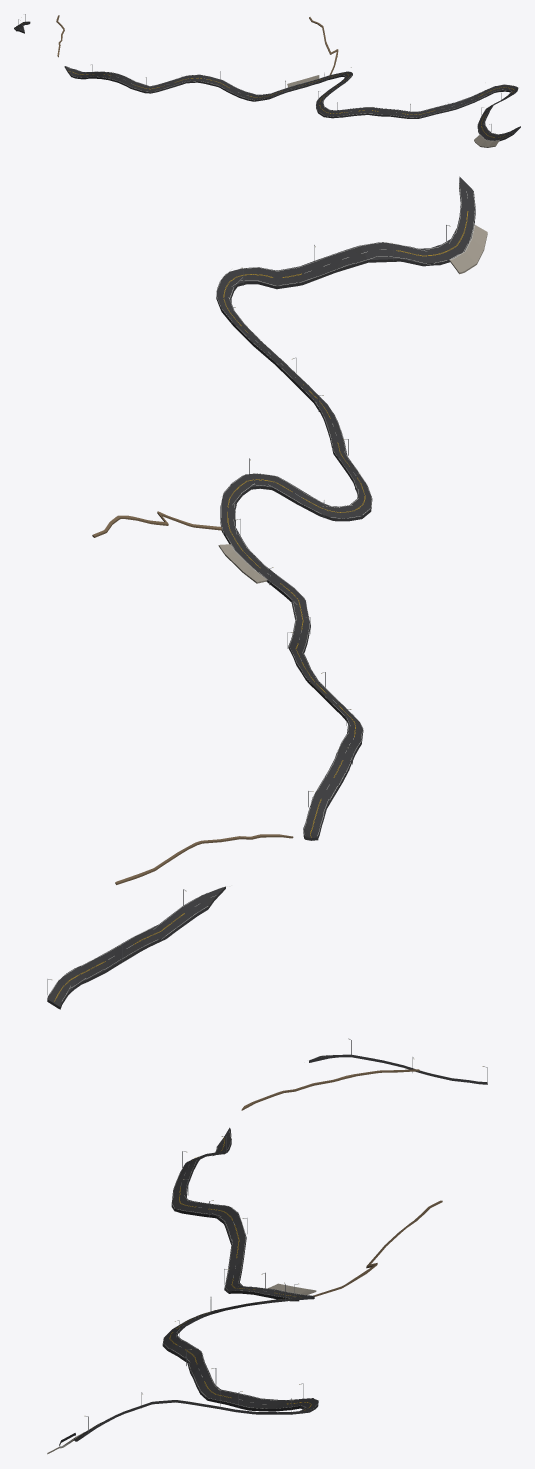
The picture shows the model from 3 angles, top to bottom: view 1: azimuth 30°, elevation 25°; view 2: azimuth 150°, elevation 25°; view 3: azimuth 330°, elevation 25°; orthographic projection. The views are drawn at different scales.
Size of the model in its own units: 238 by 111 by 584.
